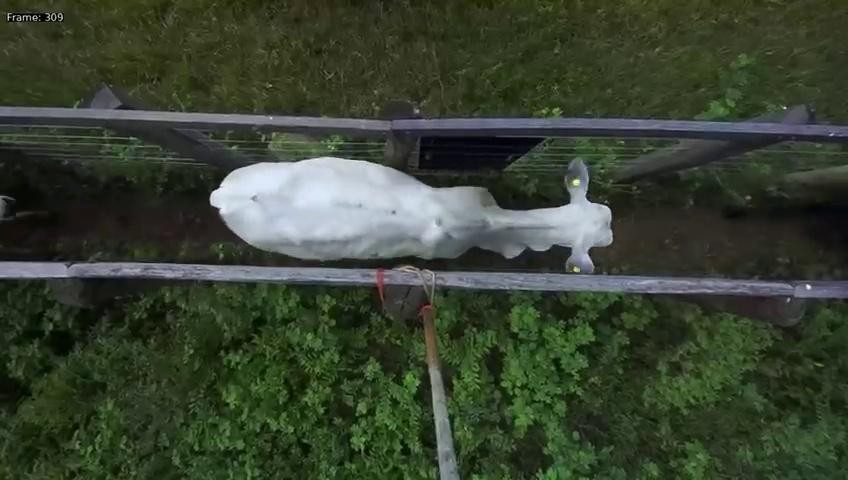cattle: (207, 152, 614, 274)
